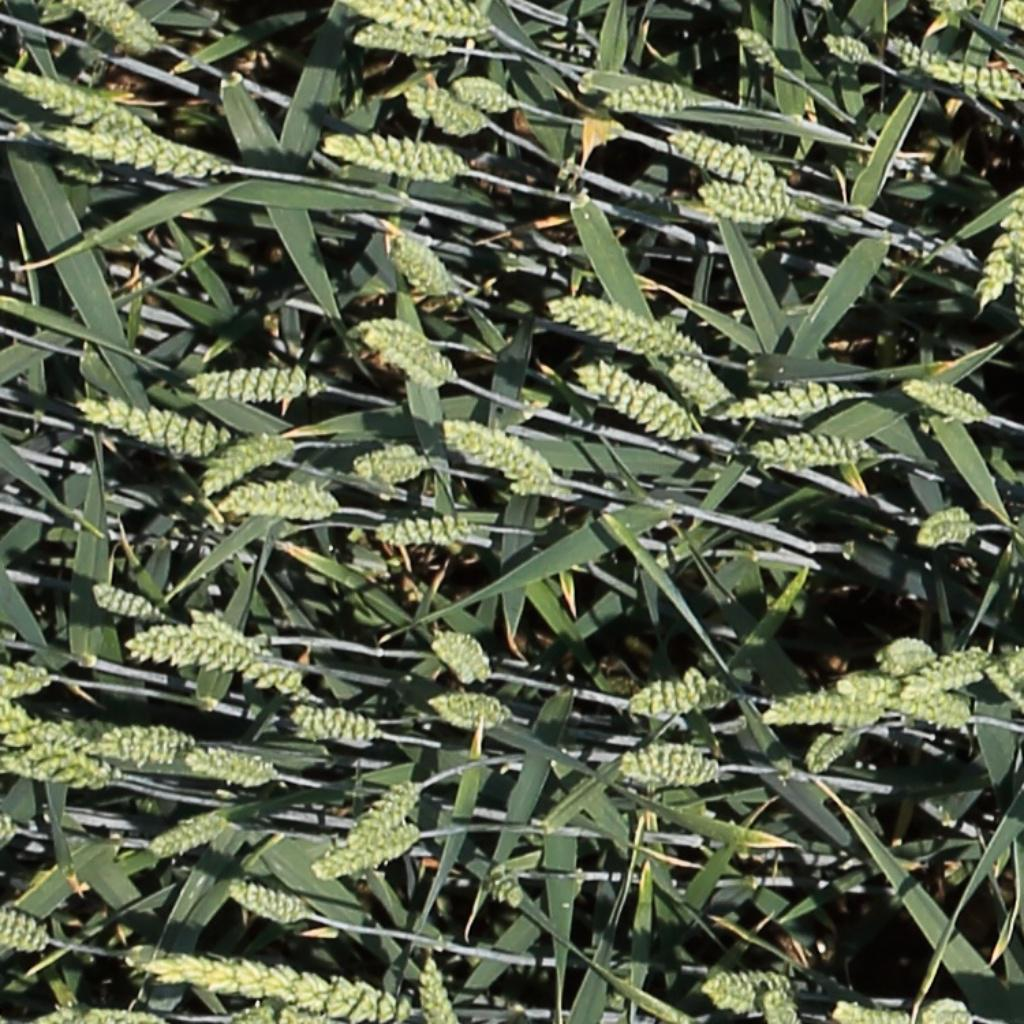0-0: (142, 951, 425, 1024), (39, 123, 227, 186), (192, 606, 308, 702), (547, 294, 697, 362), (124, 622, 279, 686), (6, 68, 150, 136), (75, 398, 233, 456), (577, 363, 688, 441), (348, 317, 458, 389), (436, 416, 552, 482), (887, 39, 1021, 96), (667, 126, 780, 189), (323, 135, 467, 182), (342, 776, 420, 854), (184, 364, 333, 404), (200, 437, 289, 501), (309, 831, 417, 882), (208, 481, 338, 523), (629, 670, 736, 721), (3, 702, 108, 753), (401, 83, 492, 141), (723, 380, 843, 423), (353, 1, 490, 38), (78, 0, 169, 55), (898, 645, 987, 701), (182, 746, 287, 793), (751, 432, 884, 469), (291, 706, 390, 755), (697, 182, 798, 228), (697, 973, 797, 1017), (764, 693, 889, 728), (147, 807, 231, 858), (615, 749, 717, 789), (666, 361, 735, 420), (344, 442, 430, 488), (102, 723, 193, 766), (5, 752, 116, 787), (899, 378, 988, 421), (387, 234, 451, 293), (427, 692, 513, 733), (223, 883, 305, 924), (349, 30, 452, 62), (602, 79, 691, 116), (444, 73, 519, 115), (430, 630, 487, 684), (87, 584, 165, 623), (802, 727, 860, 779), (909, 504, 976, 549), (373, 517, 472, 547), (731, 23, 786, 75), (886, 697, 969, 730), (416, 954, 451, 1024), (983, 660, 1024, 719), (872, 638, 937, 674), (0, 907, 50, 951), (1, 662, 54, 700), (836, 669, 898, 696), (831, 1003, 909, 1024), (820, 35, 872, 64), (759, 985, 794, 1024), (921, 994, 965, 1024), (999, 1, 1024, 32)
